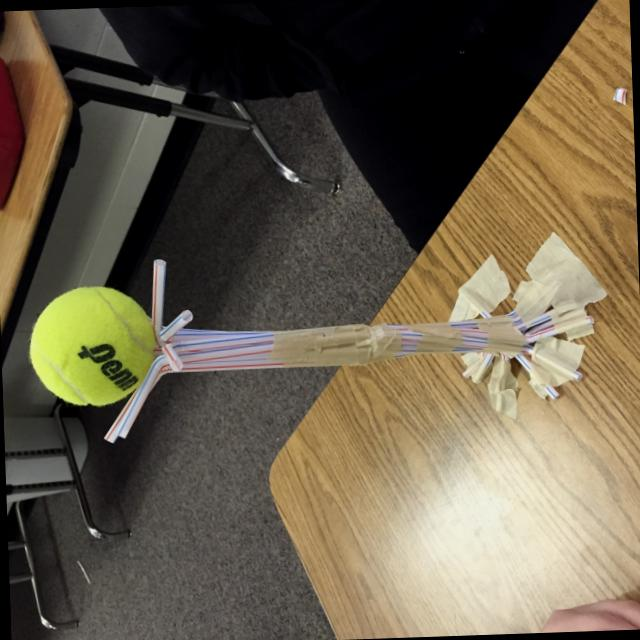Tennis Ball: (36, 273, 158, 422)
